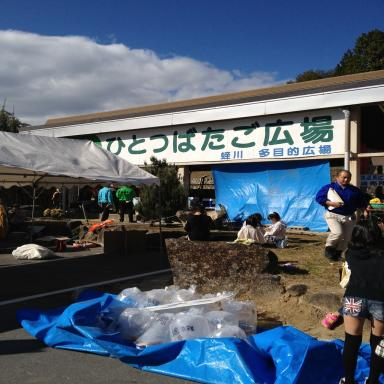plasticbag: (94, 285, 257, 351)
